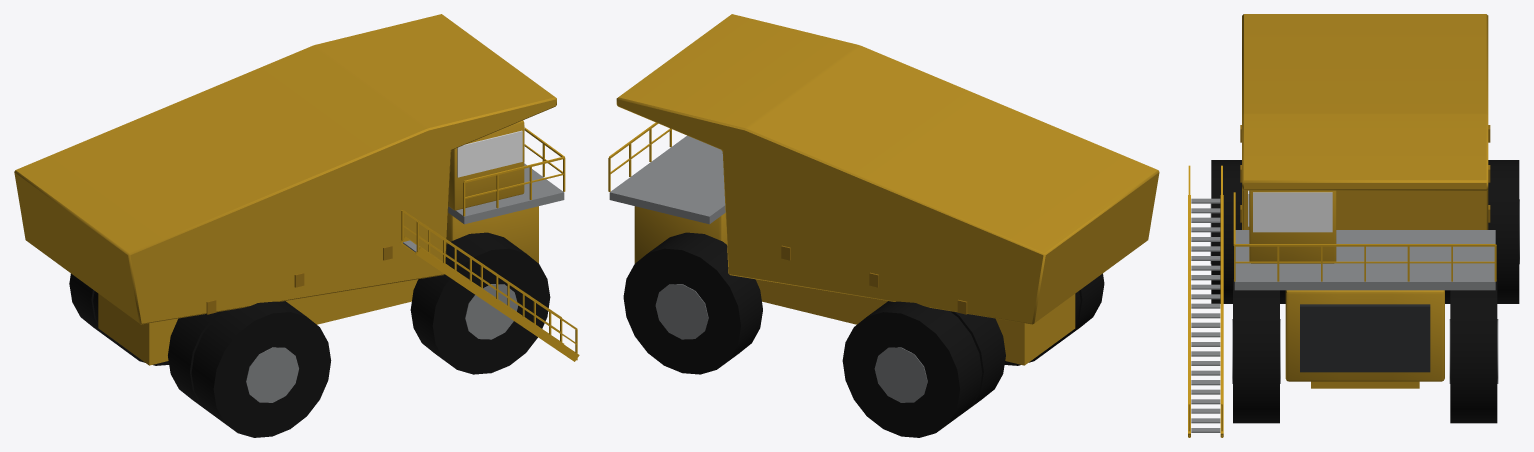
File: haul-truck.glb
The picture shows the model from 3 angles, left to right: view 1: azimuth 30°, elevation 25°; view 2: azimuth 150°, elevation 25°; view 3: azimuth 270°, elevation 25°; orthographic projection. The views are drawn at different scales.
Visible parts, largest first — view 1: Piece_lod0; view 2: Piece_lod0; view 3: Piece_lod0.
Boxes of the visible parts, x1=… form: Piece_lod0: x1=14, y1=14, x2=579, y2=437; Piece_lod0: x1=608, y1=14, x2=1159, y2=437; Piece_lod0: x1=1188, y1=14, x2=1519, y2=437.
Size of what is drawn, in the model's own units: 14.84 by 8.3 by 9.16.
